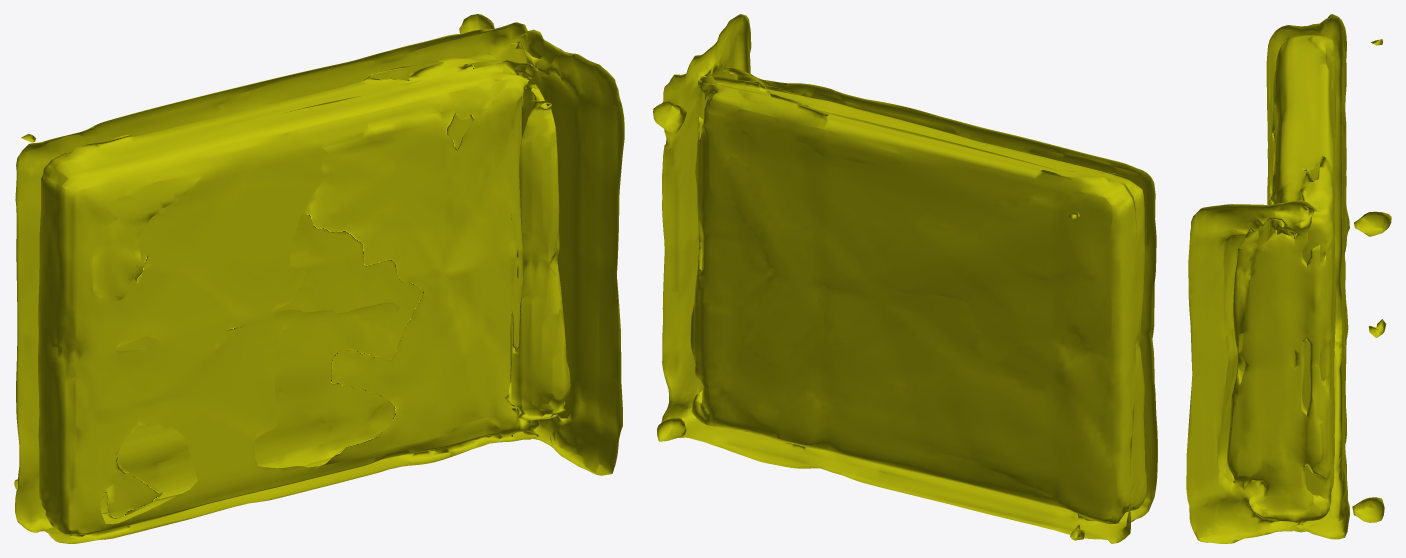
The picture shows the model from 3 angles, left to right: view 1: azimuth 30°, elevation 25°; view 2: azimuth 150°, elevation 25°; view 3: azimuth 270°, elevation 25°; orthographic projection. The views are drawn at different scales.
Parts seen in each view (by area): view 1: world; view 2: world; view 3: world.
Part boxes in pixels (box(x1,y1,x2,y2)): world: box(14, 14, 624, 543); world: box(653, 14, 1157, 543); world: box(1186, 14, 1391, 543).
Size of the model in its own units: 79.44 by 59.61 by 32.75.
